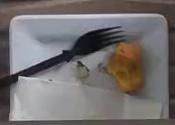dessert: (107, 43, 143, 93)
